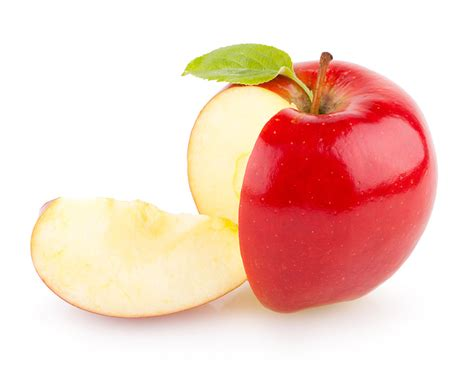apple: (186, 53, 441, 320)
